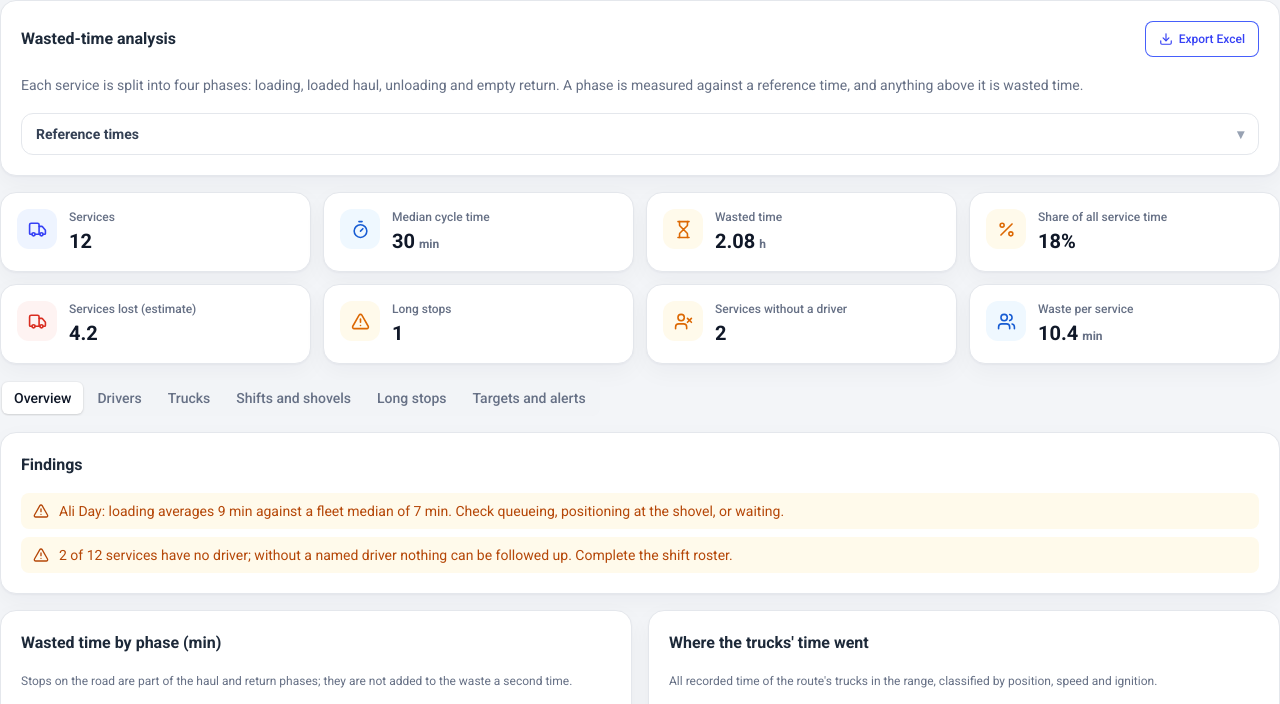
haul analysis section › tells lunch and shift handover apart from the stops of the machine
The width and height of the screenshot is (1280, 704).
Click the radio button labelled "Long stops" at (412, 398), box x1=365 y1=382 x2=458 y2=414
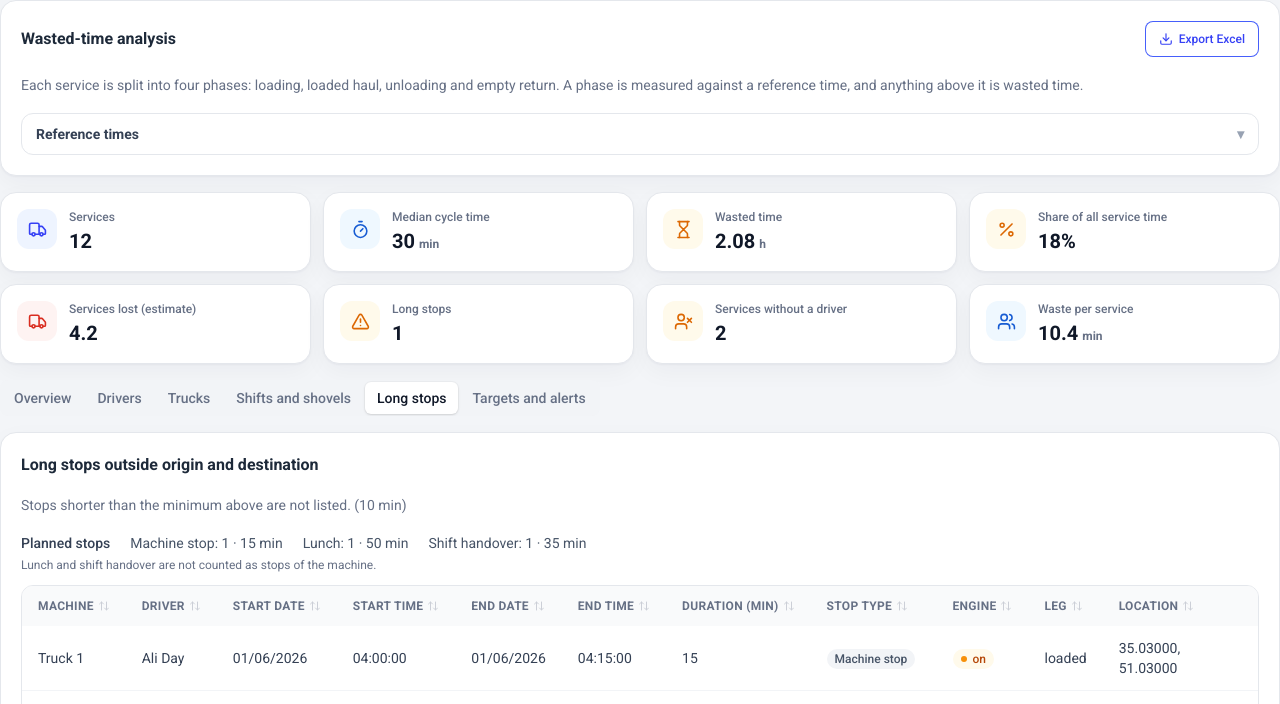
expect the element with test id "analysis-planned-stops" shows "Machine stop: 1 · 15": met, box x1=21 y1=535 x2=586 y2=572
expect the element with test id "analysis-planned-stops" shows "Lunch: 1 · 50": met, box x1=21 y1=535 x2=586 y2=572
expect the element with test id "analysis-planned-stops" shows "Shift handover: 1 · 35": met, box x1=21 y1=535 x2=586 y2=572
